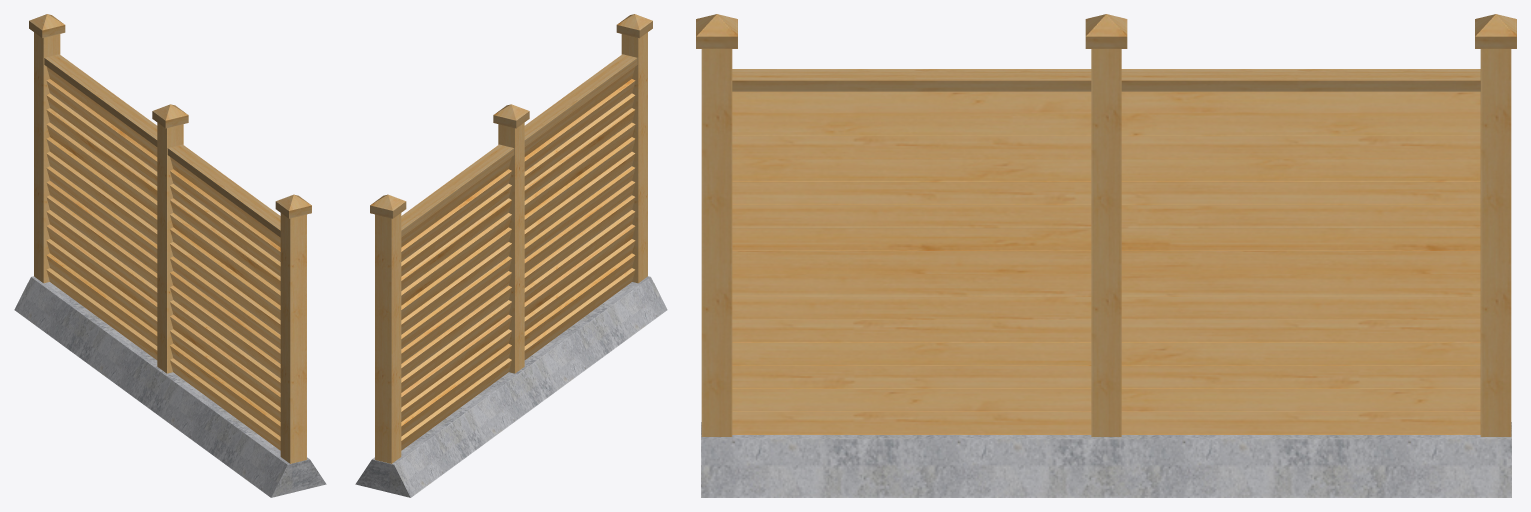
File: simple_wood_fence_2.0.glb
3 renders of one model, left to right at view 1: azimuth 30°, elevation 25°; view 2: azimuth 150°, elevation 25°; view 3: azimuth 270°, elevation 25°, orthographic. The views are drawn at different scales.
Visible parts, largest first — view 1: Object_2; view 2: Object_2; view 3: Object_2.
Boxes of the visible parts, <box> form: Object_2: <box>14,14,326,497</box>; Object_2: <box>355,14,667,497</box>; Object_2: <box>696,14,1516,497</box>.
Size of the model in its own units: 2 by 10.07 by 16.2.
1 material, 1 textured.
